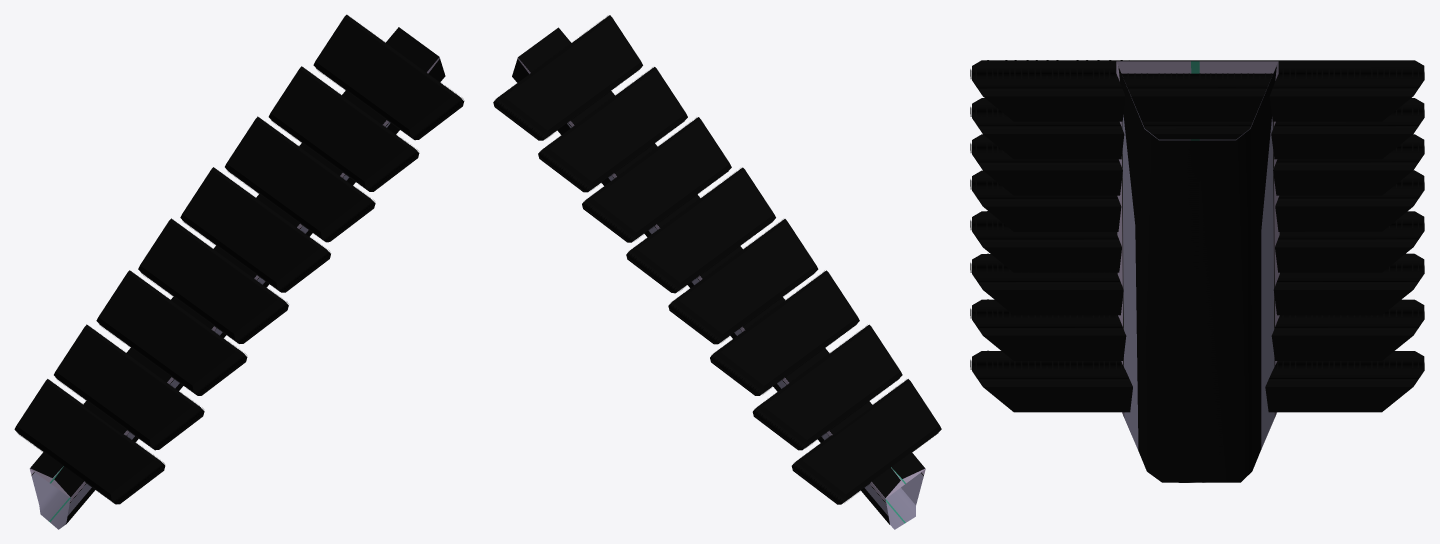
Rendered from Platform_Stairs_02.glb.
The picture shows the model from 3 angles, left to right: view 1: azimuth 30°, elevation 25°; view 2: azimuth 150°, elevation 25°; view 3: azimuth 270°, elevation 25°; orthographic projection. The views are drawn at different scales.
Visible parts, largest first — view 1: Platform_Stairs_02; view 2: Platform_Stairs_02; view 3: Platform_Stairs_02.
Part boxes in pixels (<box>): Platform_Stairs_02: <box>14,14,464,529</box>; Platform_Stairs_02: <box>493,15,941,529</box>; Platform_Stairs_02: <box>970,60,1424,482</box>.
Bounding box in the file's own units: 4.57 × 4.43 × 2.34.
Materials: 3 (2 with a texture image).
